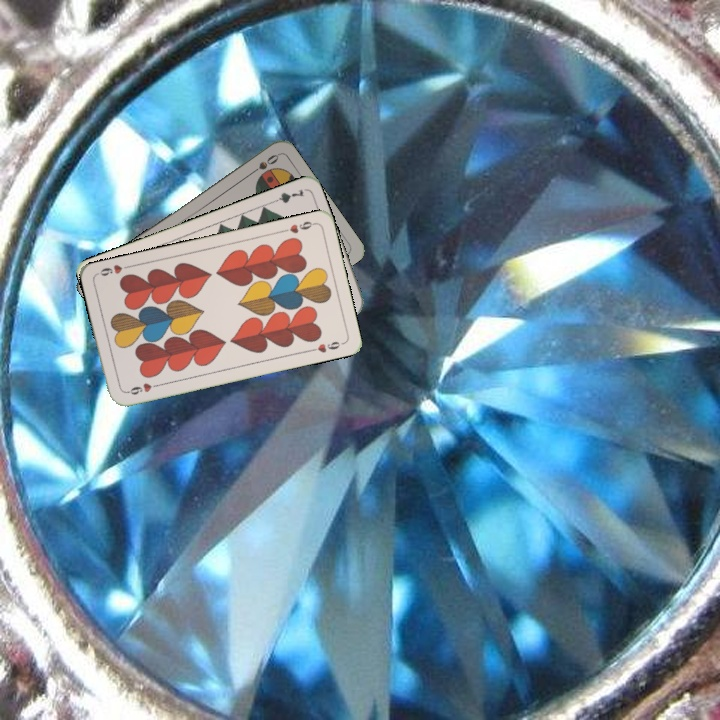G7: (267, 185, 307, 206)
H9: (278, 217, 318, 236), (122, 379, 162, 397)
SO: (245, 150, 281, 178)
